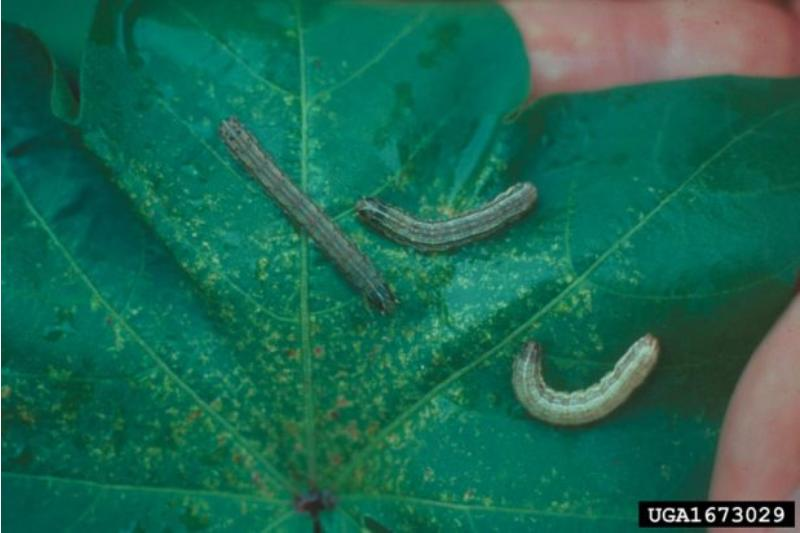fall-armyworm: (220, 120, 399, 313), (512, 334, 662, 431), (354, 183, 539, 255)
